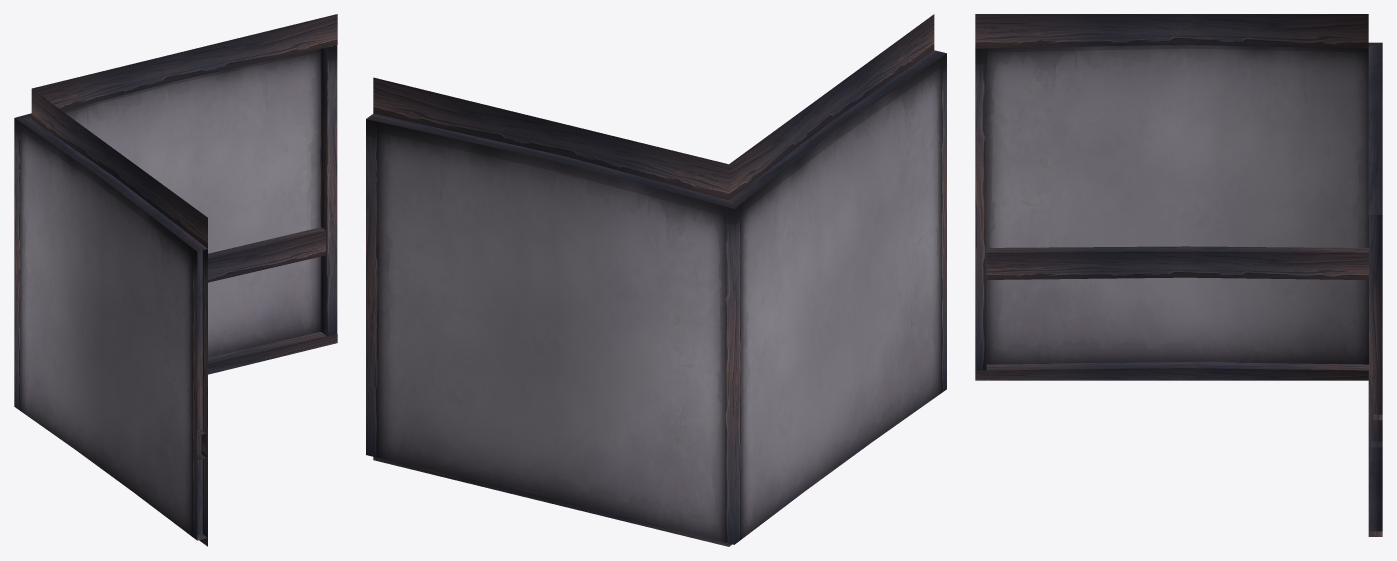
Rendered from WallCorner_1sided_detailed_2ndFloor.fbx.
3 views of the same model, side by side, from view 1: azimuth 30°, elevation 25°; view 2: azimuth 150°, elevation 25°; view 3: azimuth 270°, elevation 25° (orthographic). The views are drawn at different scales.
Parts seen in each view (by area): view 1: WallCorner_1sided_detailed_2ndFloor; view 2: WallCorner_1sided_detailed_2ndFloor; view 3: WallCorner_1sided_detailed_2ndFloor.
Part boxes in pixels (x1,y1,x2,y2): WallCorner_1sided_detailed_2ndFloor: [14, 14, 337, 546]; WallCorner_1sided_detailed_2ndFloor: [366, 14, 946, 546]; WallCorner_1sided_detailed_2ndFloor: [975, 14, 1382, 536].
Size of the model in its own units: 0.649 by 0.6442 by 0.6485.
